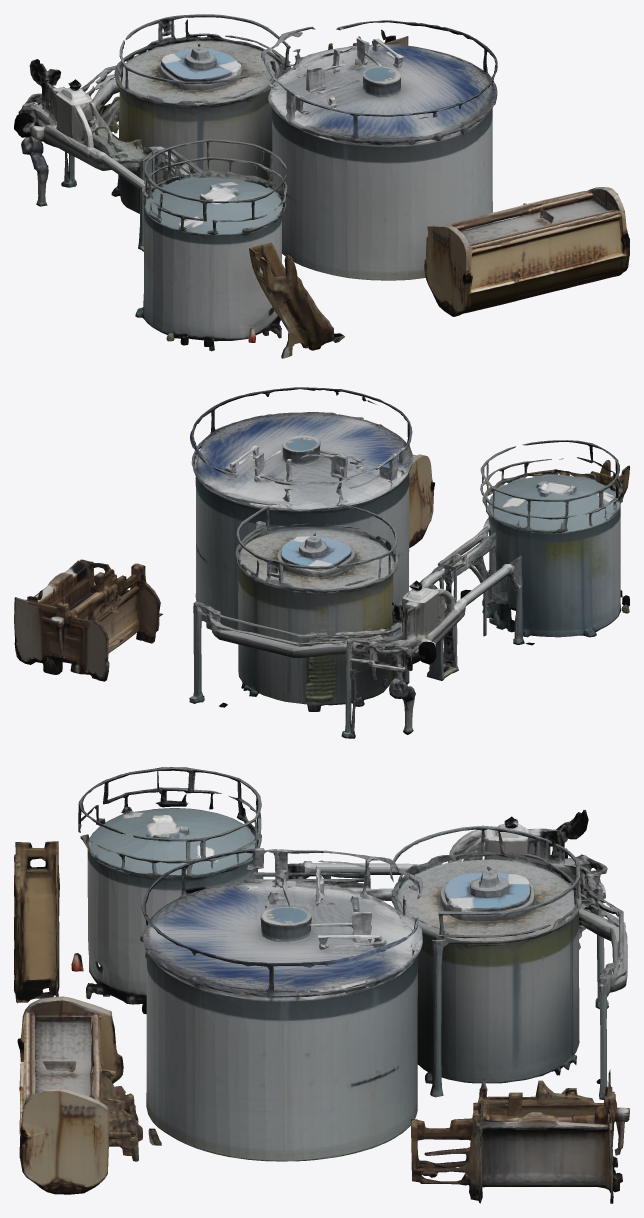
The model's file is Tank 1.glb.
3 renders of one model, top to bottom at view 1: azimuth 30°, elevation 25°; view 2: azimuth 150°, elevation 25°; view 3: azimuth 270°, elevation 25°, orthographic. The views are drawn at different scales.
Parts seen in each view (by area): view 1: world; view 2: world; view 3: world.
Boxes of the visible parts, <box> form: world: <box>14,14,629,358</box>; world: <box>14,387,629,738</box>; world: <box>14,767,629,1203</box>.
Bounding box in the file's own units: 0.9892 × 0.3835 × 0.9983.
Materials: 1 (1 with a texture image).
